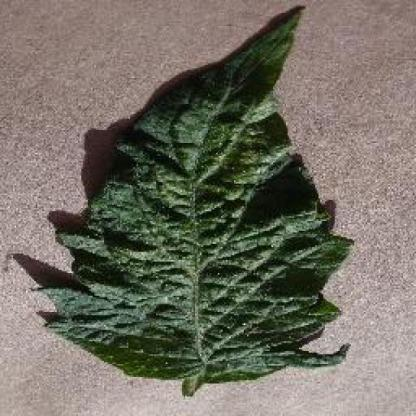Tomato_Spider_Mites: (33, 7, 349, 377)
